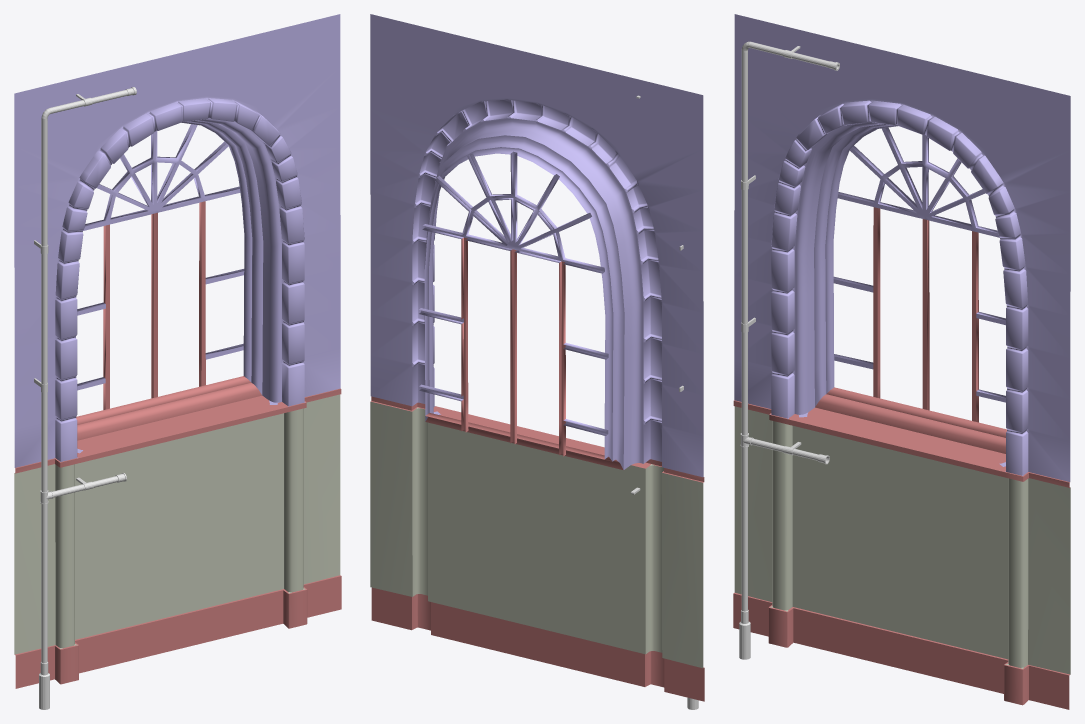
The model's file is pipe_2_enviorment.fbx.
3 renders of one model, left to right at view 1: azimuth 30°, elevation 25°; view 2: azimuth 150°, elevation 25°; view 3: azimuth 330°, elevation 25°, orthographic. The views are drawn at different scales.
Parts seen in each view (by area): view 1: Wall_01_Base001, Cylinder; view 2: Wall_01_Base001; view 3: Wall_01_Base001, Cylinder.
Part boxes in pixels (box(x1,y1,x2,y2)): Wall_01_Base001: box(14, 14, 341, 688); Cylinder: box(34, 87, 136, 709); Wall_01_Base001: box(370, 14, 704, 701); Wall_01_Base001: box(733, 14, 1070, 709); Cylinder: box(739, 41, 839, 659).
Bounding box in the file's own units: 201 × 361 × 39.43.
